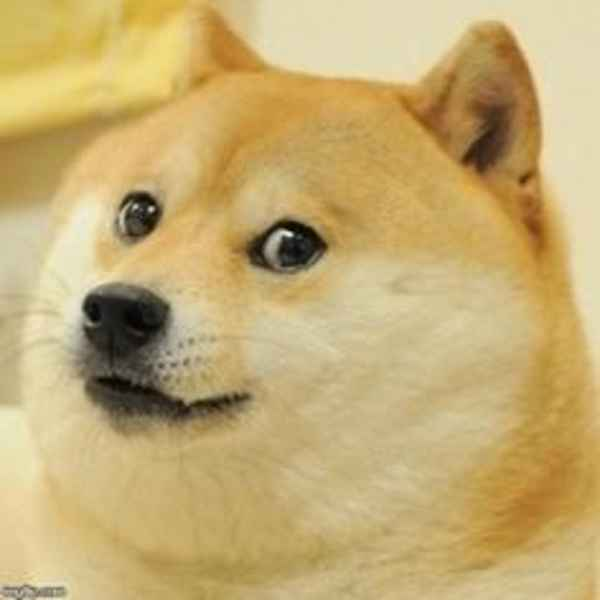doge: (26, 10, 573, 556)
